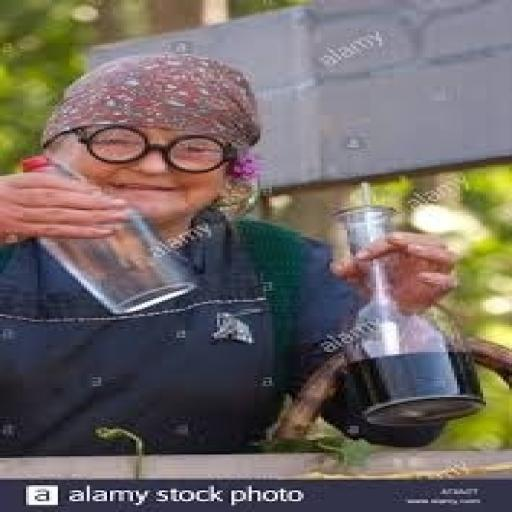drinking: (17, 154, 197, 314)
